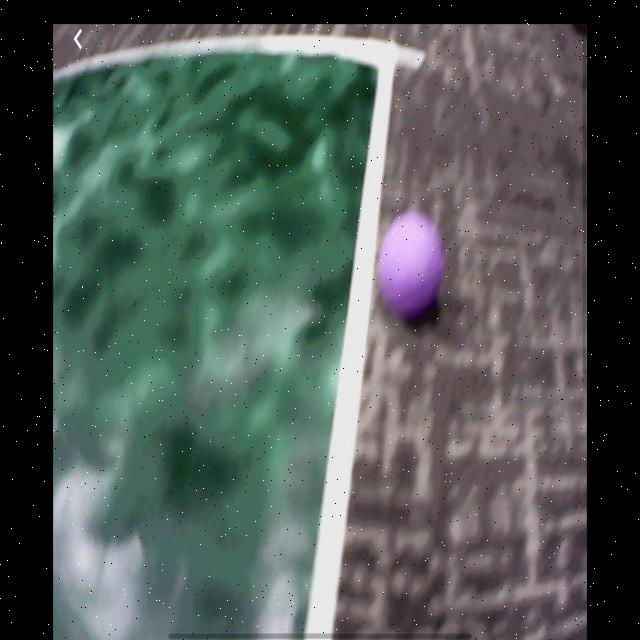ball: (377, 209, 445, 324)
